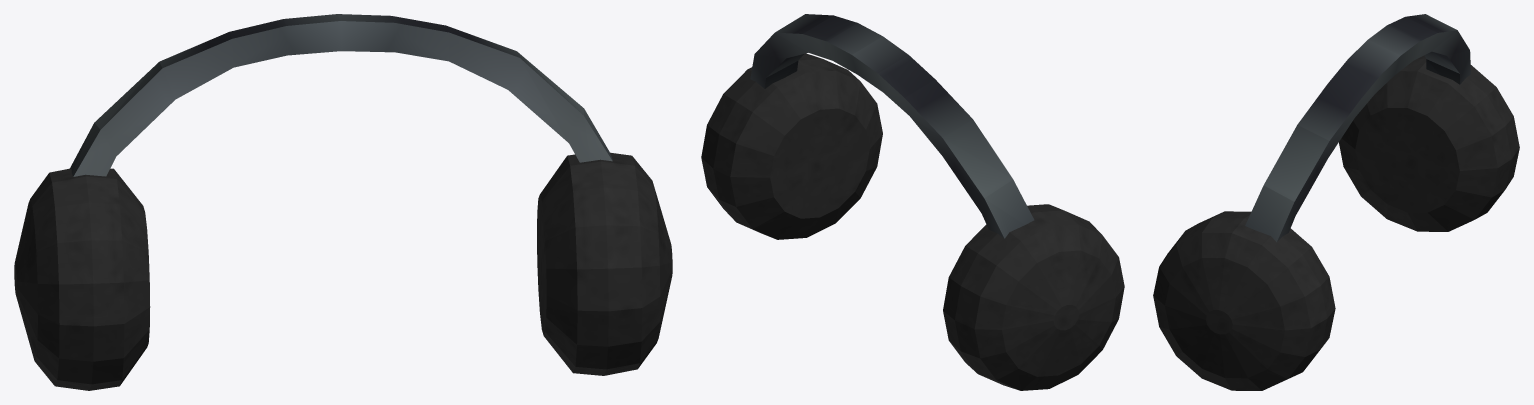
Rendered from BLACK EARMUFFS.fbx.
3 renders of one model, left to right at view 1: azimuth 30°, elevation 25°; view 2: azimuth 150°, elevation 25°; view 3: azimuth 270°, elevation 25°, orthographic. The views are drawn at different scales.
Parts seen in each view (by area): view 1: BLACK_EARMUFFS; view 2: BLACK_EARMUFFS; view 3: BLACK_EARMUFFS.
Part boxes in pixels (left/top/right/bottom): BLACK_EARMUFFS: left=14, top=14, right=672, bottom=390; BLACK_EARMUFFS: left=701, top=14, right=1124, bottom=390; BLACK_EARMUFFS: left=1153, top=14, right=1519, bottom=390.
Bounding box in the file's own units: 33.58 × 19.55 × 23.92.
